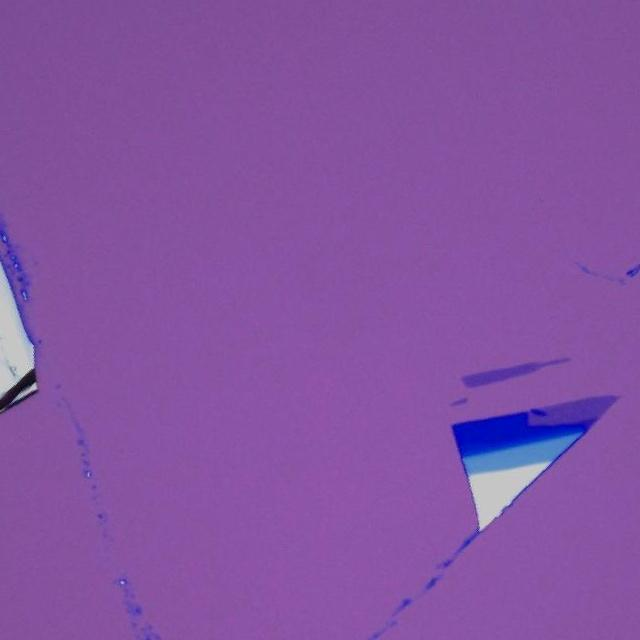monolayer-eWW4: (460, 356, 580, 390), (528, 392, 619, 423)
